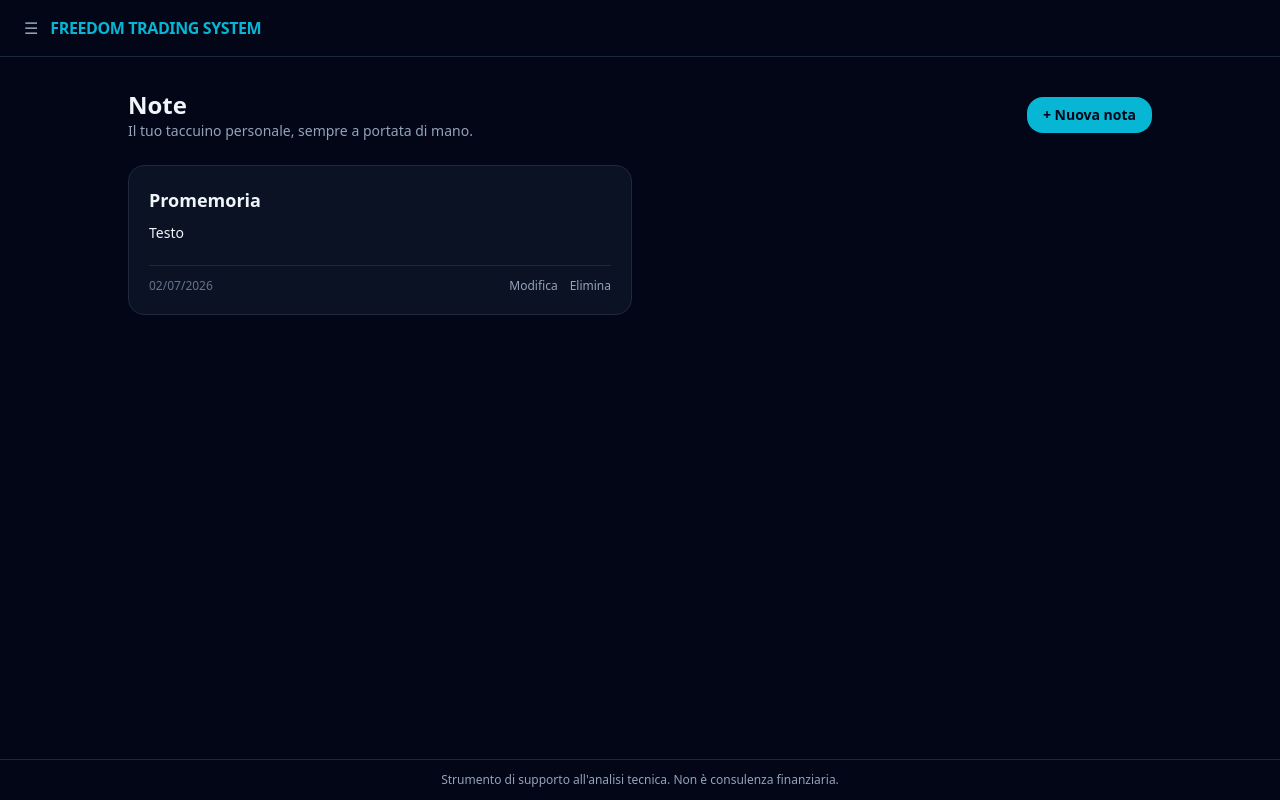
Notes › modifica una nota esistente
The width and height of the screenshot is (1280, 800).
Click the button with aria-label "Modifica Promemoria". click: (533, 286)
box: [509,278,558,294]
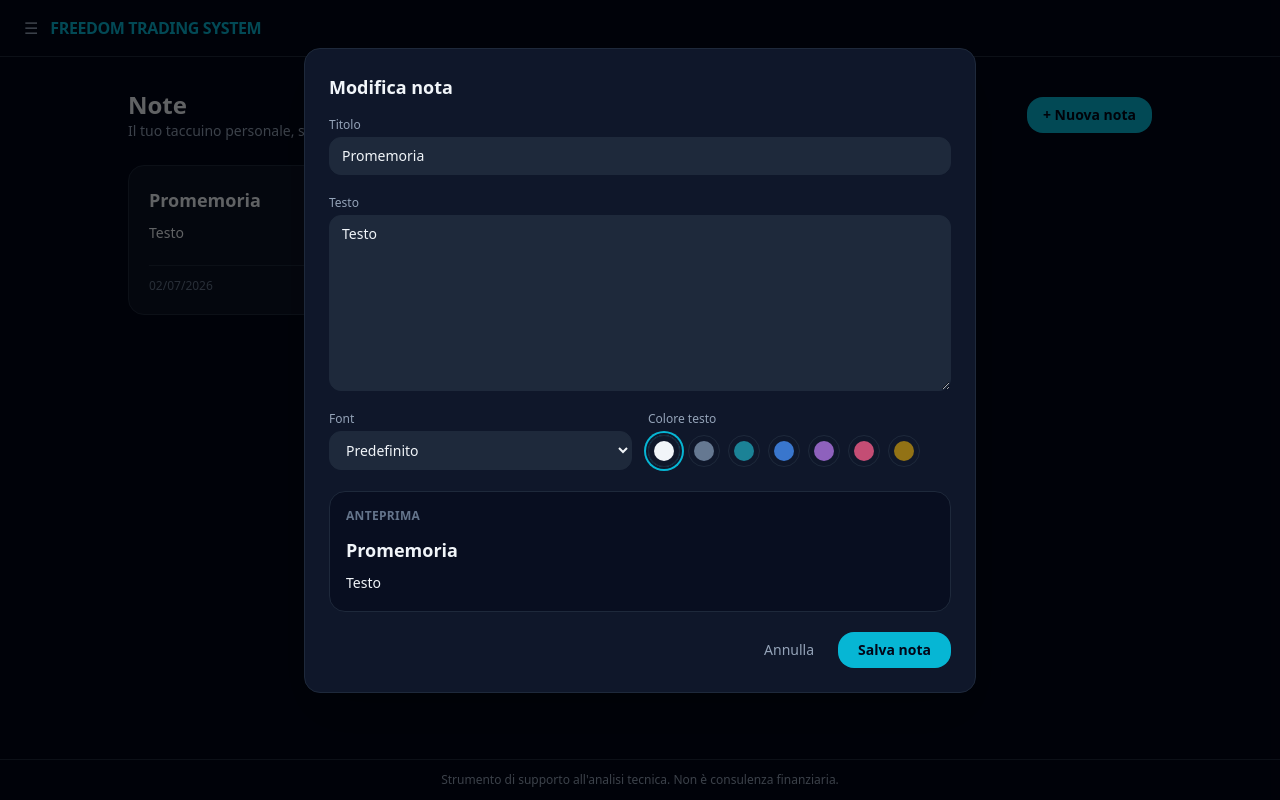
Replace the text in the field labelled "Titolo" with "Promemoria aggiornato". click: (640, 156)
box: [329,137,951,175]
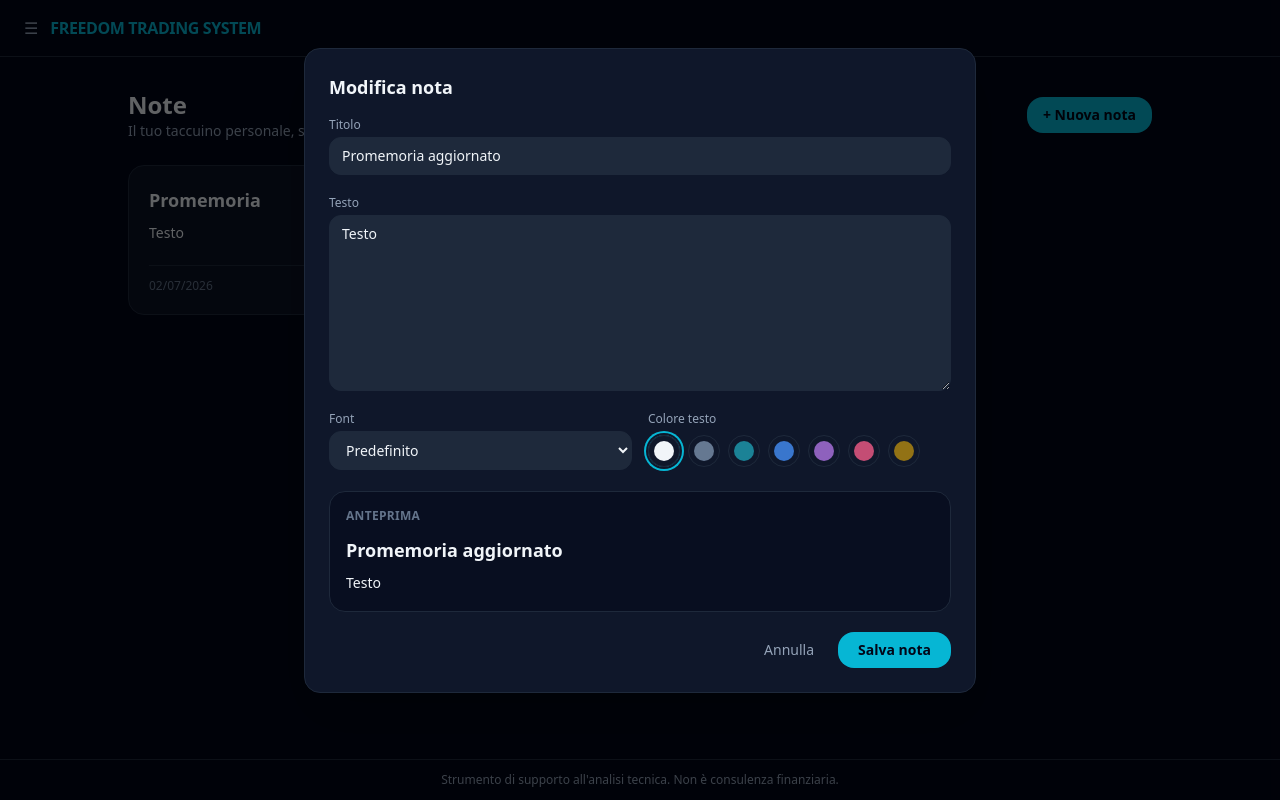
Click the button "Salva nota". click: (895, 650)
box: [838,632,951,668]
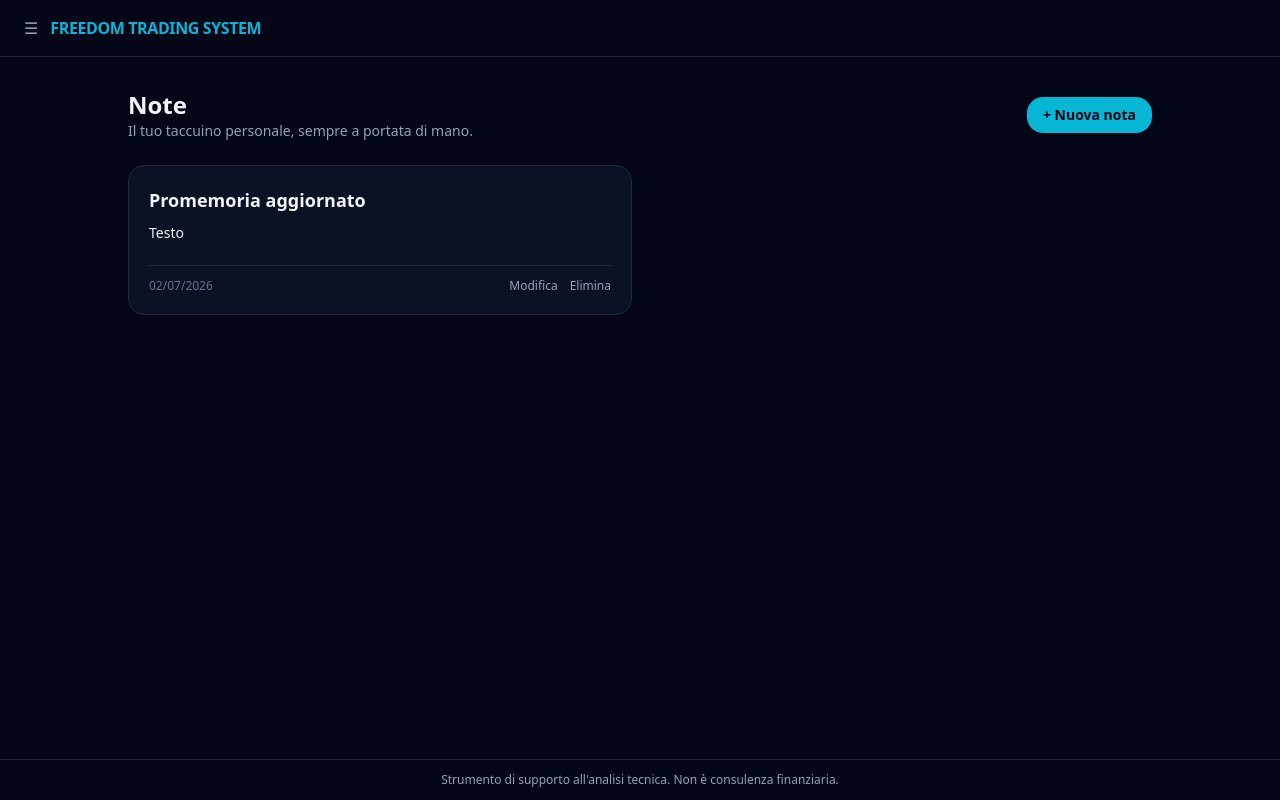
Expected: the heading "Promemoria aggiornato" is shown, [149,188,366,212]
